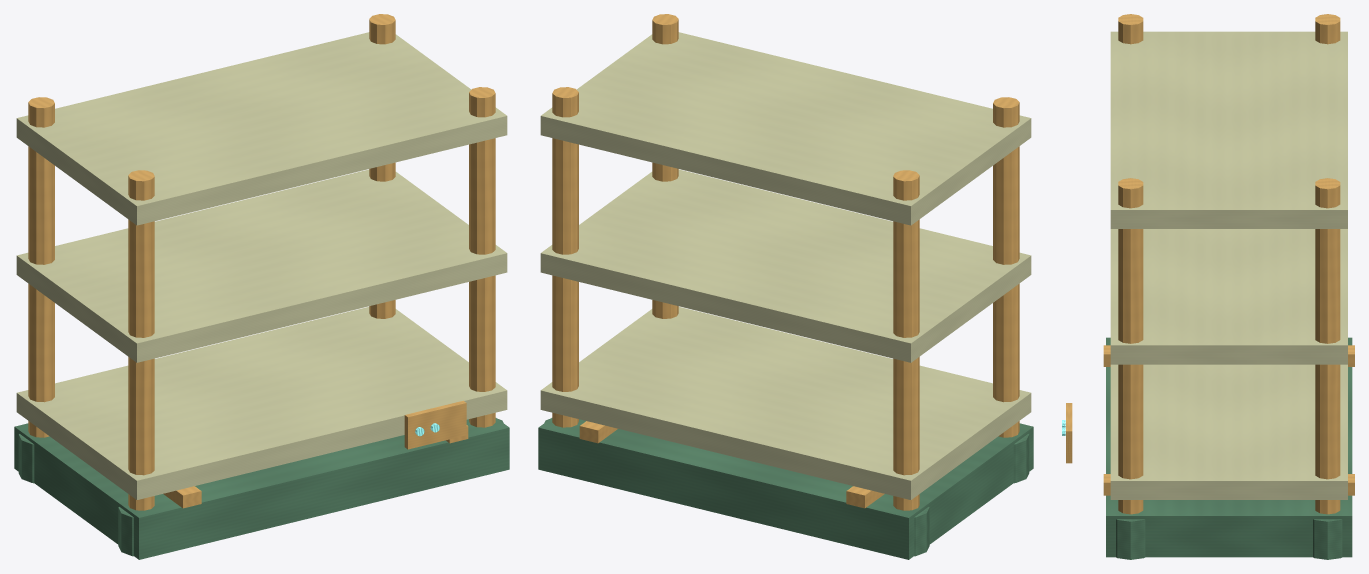
File: atlas100-s001-a06.glb
3 renders of one model, left to right at view 1: azimuth 30°, elevation 25°; view 2: azimuth 150°, elevation 25°; view 3: azimuth 270°, elevation 25°, orthographic.
Visible parts, largest first — view 1: atlas100-s001-a06:part-013, atlas100-s001-a06:part-012, atlas100-s001-a06:part-011, atlas100-s001-a06:part-000, atlas100-s001-a06:part-005, atlas100-s001-a06:part-009, atlas100-s001-a06:part-003, atlas100-s001-a06:part-014, atlas100-s001-a06:part-007, atlas100-s001-a06:part-004, atlas100-s001-a06:part-006; view 2: atlas100-s001-a06:part-013, atlas100-s001-a06:part-012, atlas100-s001-a06:part-011, atlas100-s001-a06:part-000, atlas100-s001-a06:part-003, atlas100-s001-a06:part-007, atlas100-s001-a06:part-005, atlas100-s001-a06:part-009, atlas100-s001-a06:part-006, atlas100-s001-a06:part-004; view 3: atlas100-s001-a06:part-013, atlas100-s001-a06:part-012, atlas100-s001-a06:part-011, atlas100-s001-a06:part-000, atlas100-s001-a06:part-007, atlas100-s001-a06:part-009, atlas100-s001-a06:part-008, atlas100-s001-a06:part-010, atlas100-s001-a06:part-003, atlas100-s001-a06:part-005, atlas100-s001-a06:part-014.
Part boxes in pixels (bbox=[...]): atlas100-s001-a06:part-013: bbox=[16, 32, 507, 225]; atlas100-s001-a06:part-012: bbox=[16, 169, 507, 362]; atlas100-s001-a06:part-011: bbox=[16, 307, 507, 499]; atlas100-s001-a06:part-000: bbox=[14, 418, 509, 559]; atlas100-s001-a06:part-005: bbox=[128, 170, 154, 510]; atlas100-s001-a06:part-009: bbox=[469, 87, 495, 427]; atlas100-s001-a06:part-003: bbox=[28, 97, 54, 437]; atlas100-s001-a06:part-014: bbox=[404, 400, 466, 449]; atlas100-s001-a06:part-007: bbox=[369, 14, 395, 318]; atlas100-s001-a06:part-004: bbox=[18, 434, 34, 483]; atlas100-s001-a06:part-006: bbox=[118, 507, 133, 556]; atlas100-s001-a06:part-013: bbox=[540, 32, 1031, 225]; atlas100-s001-a06:part-012: bbox=[540, 169, 1031, 362]; atlas100-s001-a06:part-011: bbox=[540, 307, 1031, 499]; atlas100-s001-a06:part-000: bbox=[538, 418, 1033, 559]; atlas100-s001-a06:part-003: bbox=[893, 170, 919, 510]; atlas100-s001-a06:part-007: bbox=[552, 87, 578, 427]; atlas100-s001-a06:part-005: bbox=[993, 97, 1019, 437]; atlas100-s001-a06:part-009: bbox=[652, 14, 678, 318]; atlas100-s001-a06:part-006: bbox=[1013, 434, 1029, 483]; atlas100-s001-a06:part-004: bbox=[914, 507, 929, 556]; atlas100-s001-a06:part-013: bbox=[1110, 31, 1347, 228]; atlas100-s001-a06:part-012: bbox=[1110, 229, 1347, 364]; atlas100-s001-a06:part-011: bbox=[1110, 364, 1347, 499]; atlas100-s001-a06:part-000: bbox=[1106, 337, 1352, 557]; atlas100-s001-a06:part-007: bbox=[1315, 178, 1340, 514]; atlas100-s001-a06:part-009: bbox=[1118, 178, 1143, 514]; atlas100-s001-a06:part-008: bbox=[1313, 519, 1342, 559]; atlas100-s001-a06:part-010: bbox=[1116, 519, 1145, 559]; atlas100-s001-a06:part-003: bbox=[1315, 14, 1340, 44]; atlas100-s001-a06:part-005: bbox=[1118, 14, 1143, 44]; atlas100-s001-a06:part-014: bbox=[1066, 403, 1072, 463].
Size of the model in its own units: 2.47 by 2.3 by 1.66.
4 materials, 4 textured.
